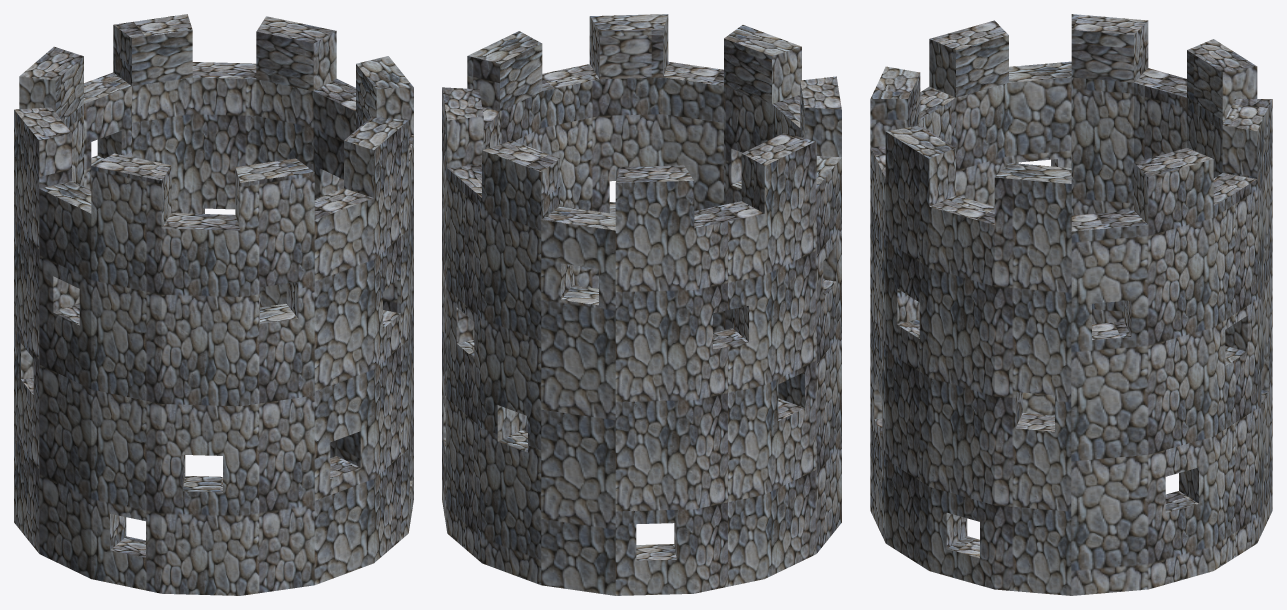
The model's file is 2-3BLD.fbx.
The picture shows the model from 3 angles, left to right: view 1: azimuth 30°, elevation 25°; view 2: azimuth 150°, elevation 25°; view 3: azimuth 270°, elevation 25°; orthographic projection.
Parts seen in each view (by area): view 1: 圓柱體; view 2: 圓柱體; view 3: 圓柱體.
Boxes of the visible parts, x1,y1,x2,y2 form: 圓柱體: (14, 14, 413, 595); 圓柱體: (442, 14, 841, 595); 圓柱體: (870, 14, 1272, 595).
Bounding box in the file's own units: 200 × 226 × 200.
1 material, 1 textured.
